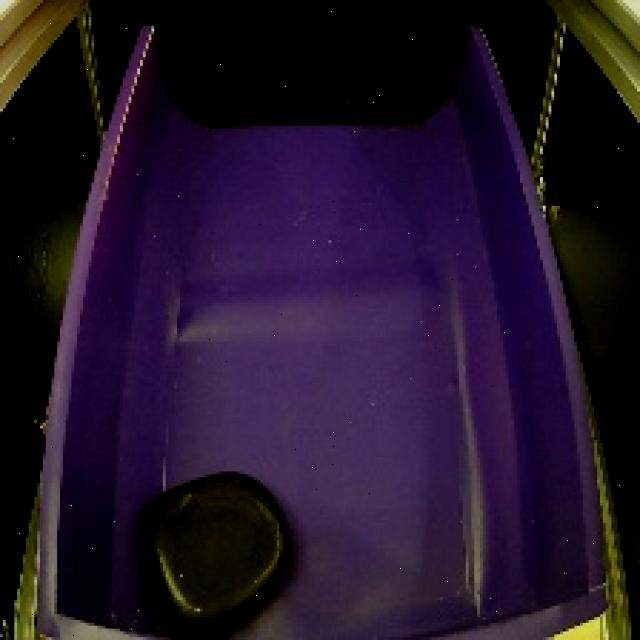cobbles: (126, 464, 302, 640)
